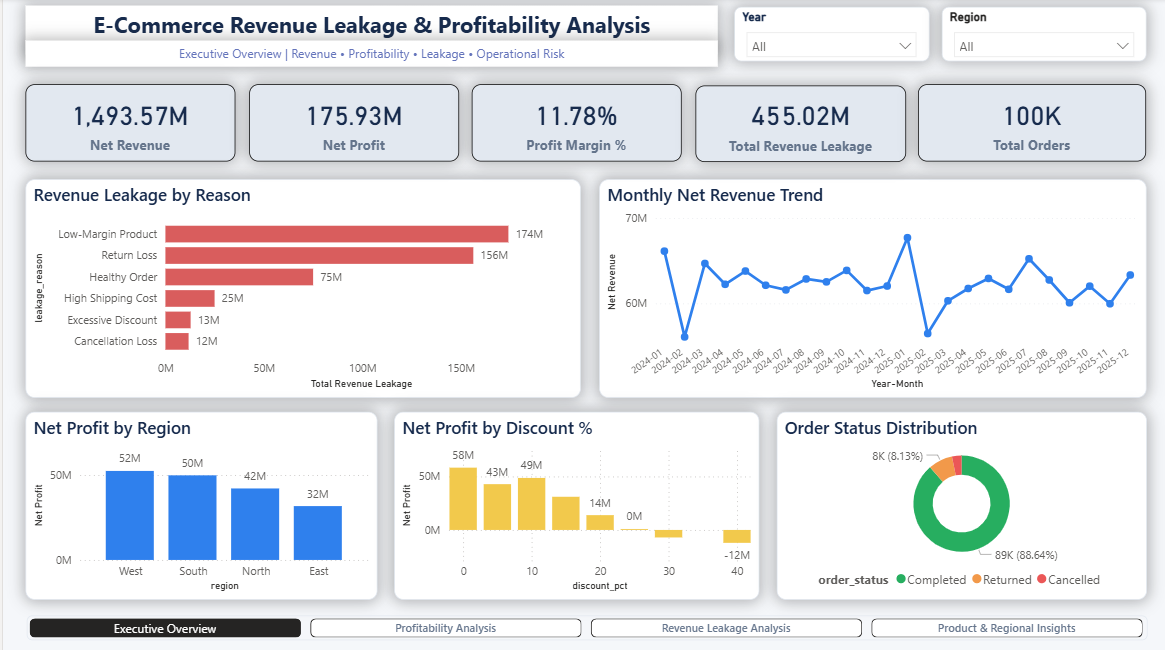

Layout of this report page (visuals, bound fields, positions):
{"tool":"powerbi","page":{"name":"Executive Overview","canvas":[1280,720],"ordinal":0},"visuals":[{"type":"textbox","box":[24.7,8.2,760.2,53.5],"z":0},{"type":"textbox","box":[24.7,46.7,760.2,28.8],"z":1000},{"type":"card","fields":{"Values":["Sum(public ecommerce_transactions.net_revenue)"]},"box":[25,95,230,85],"z":2000},{"type":"clusteredBarChart","title":"Revenue Leakage by Reason","fields":{"Category":["public ecommerce_transactions.leakage_reason"],"Y":["public ecommerce_transactions.Total Revenue Leakage"]},"box":[24.7,199,609.3,240.1],"z":3000},{"type":"lineChart","title":"Monthly Net Revenue Trend","fields":{"Category":["DateTable.Year-Month"],"Y":["public ecommerce_transactions.Net Revenue"]},"box":[654.5,199,601,240.1],"z":4000},{"type":"clusteredColumnChart","title":"Net Profit by Region","fields":{"Category":["public ecommerce_transactions.region"],"Y":["public ecommerce_transactions.Net Profit"]},"box":[24.2,454.7,386.3,206.7],"z":5000},{"type":"clusteredColumnChart","title":"Net Profit by Discount %","fields":{"Y":["public ecommerce_transactions.Net Profit"],"Category":["public ecommerce_transactions.discount_pct"]},"box":[429,454.7,400.5,206.7],"z":6000},{"type":"donutChart","title":"Order Status Distribution","fields":{"Category":["public ecommerce_transactions.order_status"],"Y":["public ecommerce_transactions.Total Orders"]},"box":[849.5,454.7,406.2,206.7],"z":7000},{"type":"slicer","title":"Year","fields":{"Values":["DateTable.Year"]},"box":[802.7,9.6,214.1,60.4],"z":8000},{"type":"slicer","title":"Region","fields":{"Values":["public ecommerce_transactions.region"]},"box":[1030.5,9.6,225,60.4],"z":9000},{"type":"card","fields":{"Values":["public ecommerce_transactions.Net Profit"]},"box":[270,95,230,85],"z":10000},{"type":"card","fields":{"Values":["public ecommerce_transactions.Profit Margin %"]},"box":[515,95,230,85],"z":11000},{"type":"card","fields":{"Values":["public ecommerce_transactions.Total Revenue Leakage"]},"box":[759.7,95.5,230.9,84.1],"z":12000},{"type":"card","fields":{"Values":["public ecommerce_transactions.Total Orders"]},"box":[1005,95,250,85],"z":13000},{"type":"pageNavigator","box":[25.7,678.5,1230.1,27.1],"z":14000}]}

Visuals, with their boxes in screenshot pixels (x1, y1, x2, y2), scaled from the page's 1280x720 canvas onto the 1165x650 screenshot:
textbox: [22,7,714,56]
textbox: [22,42,714,68]
card - Sum(public ecommerce_transactions.net_revenue): [23,86,232,162]
"Revenue Leakage by Reason" clusteredBarChart: [22,180,577,396]
"Monthly Net Revenue Trend" lineChart: [596,180,1143,396]
"Net Profit by Region" clusteredColumnChart: [22,410,374,597]
"Net Profit by Discount %" clusteredColumnChart: [390,410,755,597]
"Order Status Distribution" donutChart: [773,410,1143,597]
"Year" slicer: [731,9,925,63]
"Region" slicer: [938,9,1143,63]
card - public ecommerce_transactions.Net Profit: [246,86,455,162]
card - public ecommerce_transactions.Profit Margin %: [469,86,678,162]
card - public ecommerce_transactions.Total Revenue Leakage: [691,86,902,162]
card - public ecommerce_transactions.Total Orders: [915,86,1142,162]
pageNavigator: [23,613,1143,637]
